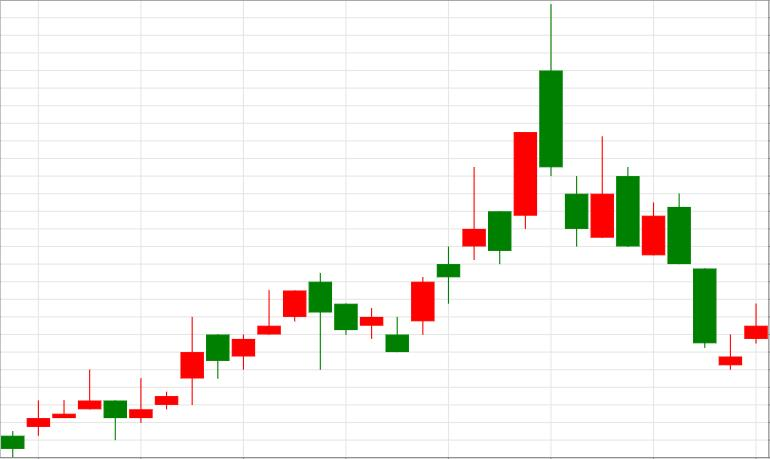hanging_man_fall: (129, 272, 333, 422)
